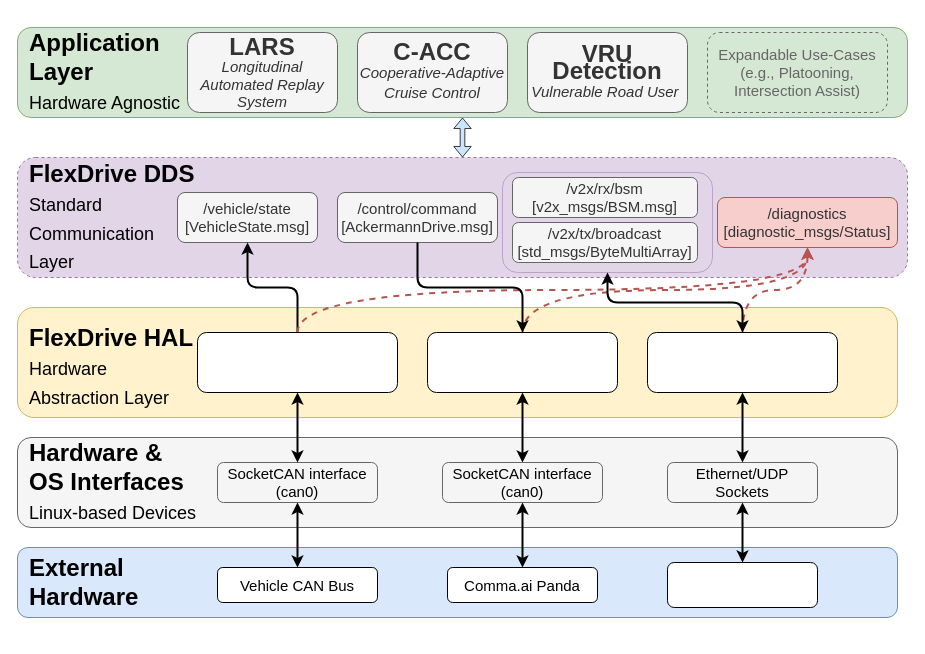
This 925x654 diagram has some shape labels left out. Each missing label, with the box of its shape:
Cohda V2X Interface Node (Rx/Tx): (646, 332, 838, 392)
Cohda Wireless Radio: (666, 562, 818, 608)
Panda Interface Node (Control Overrides Tx): (426, 332, 618, 392)
Vehicle CAN Interface Node (Rx only): (196, 332, 398, 392)
